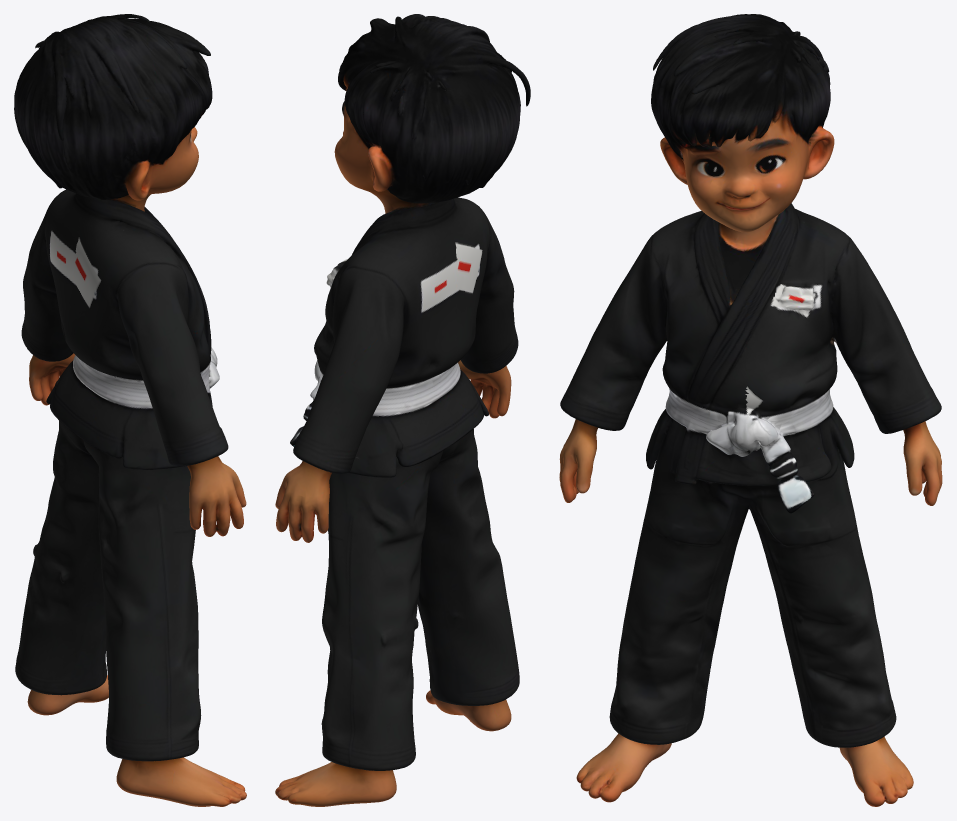
Rendered from hero.glb.
The picture shows the model from 3 angles, left to right: view 1: azimuth 30°, elevation 25°; view 2: azimuth 150°, elevation 25°; view 3: azimuth 270°, elevation 25°; orthographic projection.
Visible parts, largest first — view 1: tripo_node_bcc46459-e0b8-4b04-8d4b-b58f849b70fe; view 2: tripo_node_bcc46459-e0b8-4b04-8d4b-b58f849b70fe; view 3: tripo_node_bcc46459-e0b8-4b04-8d4b-b58f849b70fe.
Boxes of the visible parts, x1,y1,x2,y2 form: tripo_node_bcc46459-e0b8-4b04-8d4b-b58f849b70fe: (14, 14, 246, 806); tripo_node_bcc46459-e0b8-4b04-8d4b-b58f849b70fe: (275, 14, 530, 806); tripo_node_bcc46459-e0b8-4b04-8d4b-b58f849b70fe: (559, 14, 942, 806).
Bounding box in the file's own units: 0.2692 × 1 × 0.4636.
1 material, 1 textured.
